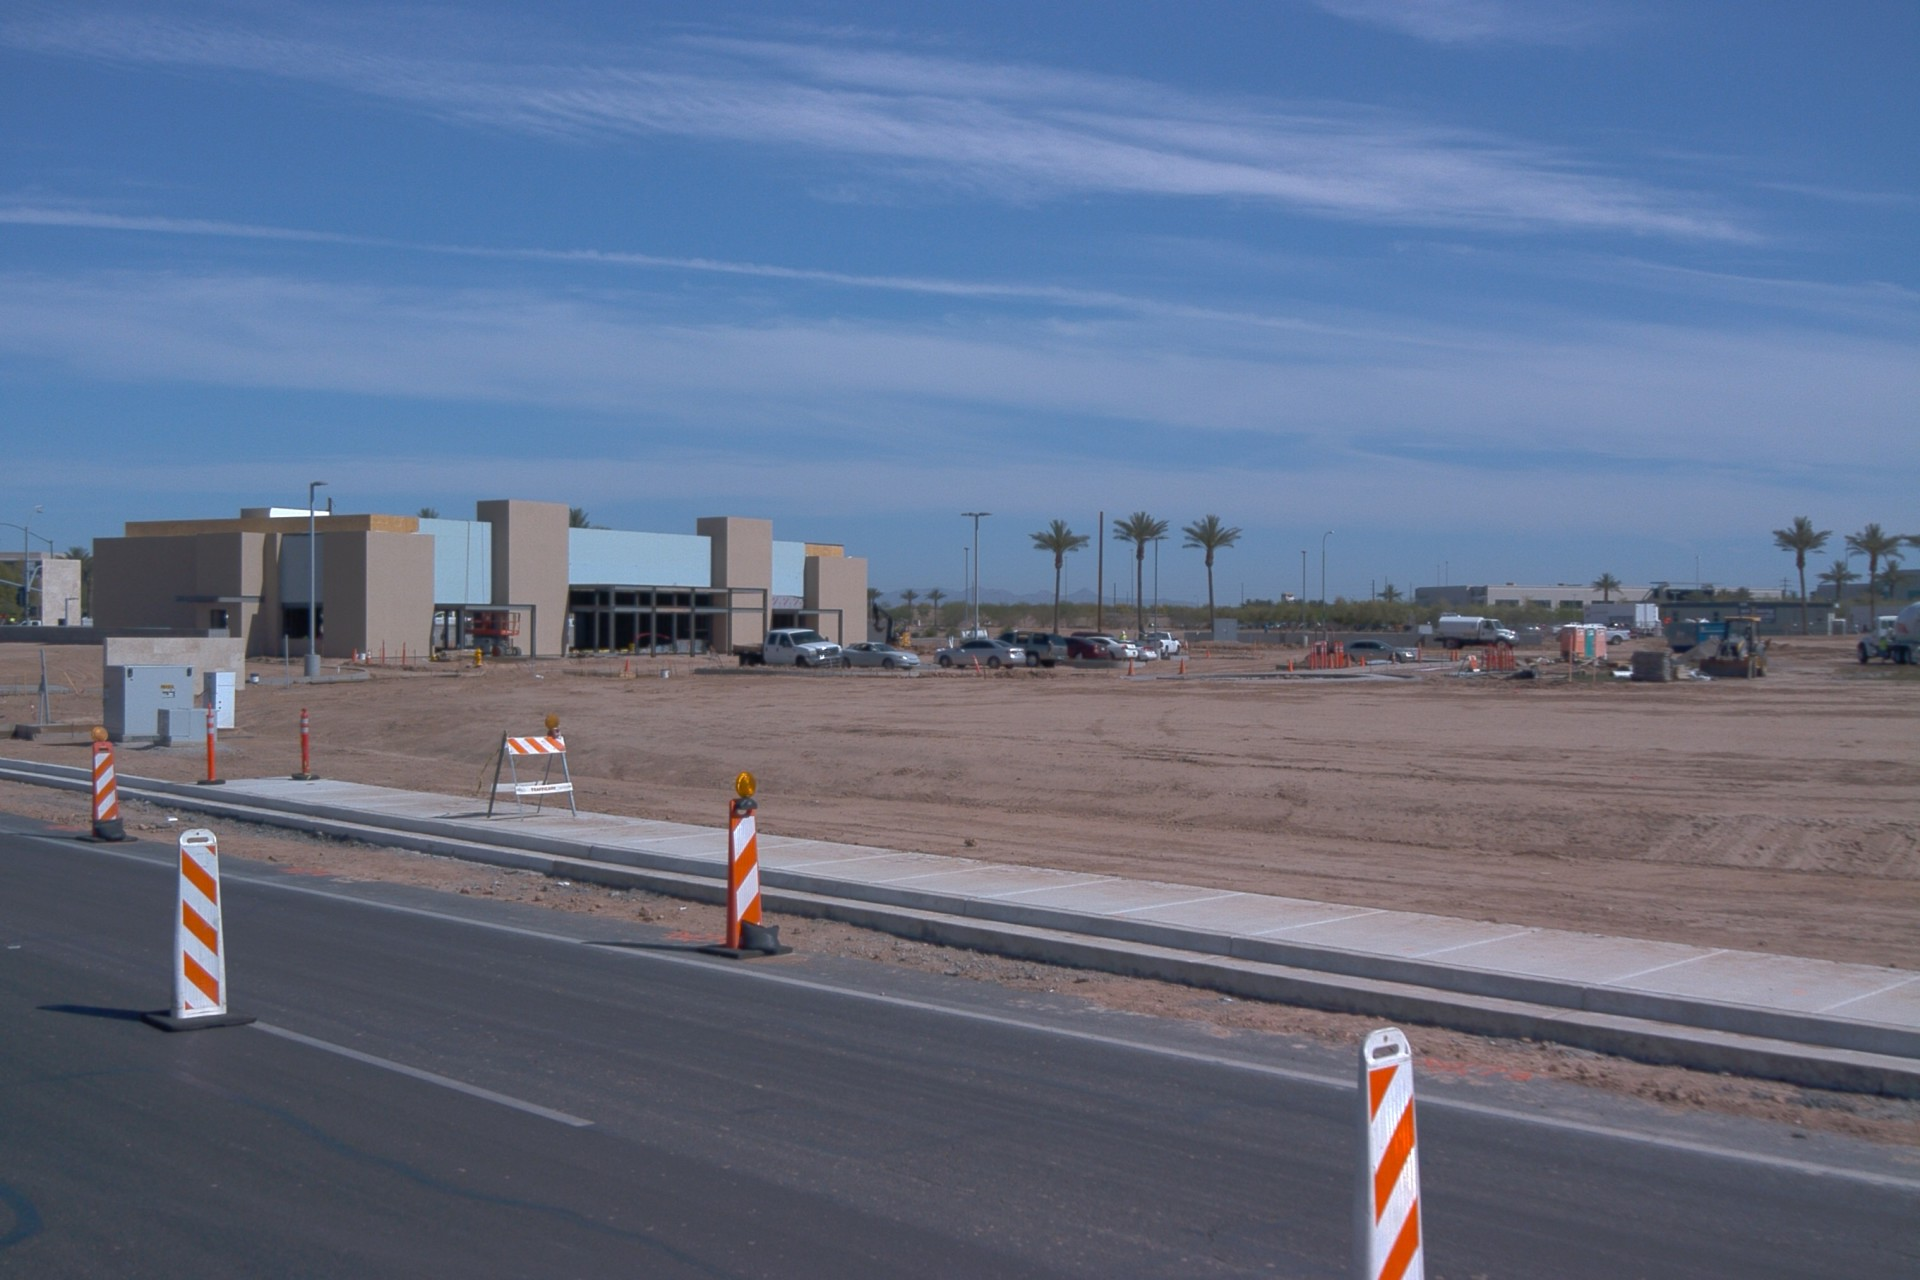TYPE_PEDESTRIAN: (1876, 634, 1891, 667), (1119, 629, 1131, 644), (1143, 629, 1149, 639)
TYPE_VEHICLE: (729, 622, 842, 667), (1700, 612, 1770, 678), (1855, 603, 1920, 669), (993, 621, 1072, 669), (1433, 616, 1522, 656), (931, 637, 1028, 670), (841, 638, 920, 671), (1059, 630, 1115, 663), (1341, 642, 1415, 665), (1084, 633, 1139, 657), (1131, 631, 1180, 657), (1120, 637, 1160, 658), (1597, 628, 1637, 648), (435, 610, 471, 628), (958, 629, 989, 647), (1070, 633, 1118, 640), (15, 621, 41, 627)
